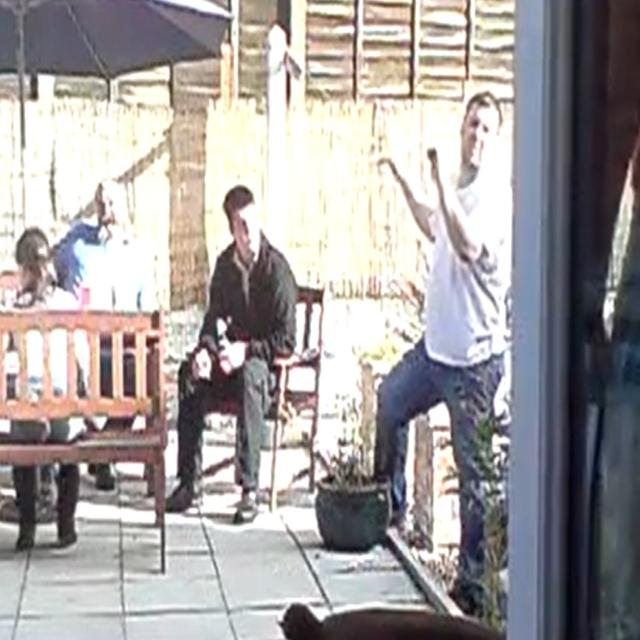sitting: (166, 184, 298, 523)
standing: (374, 91, 513, 612)
